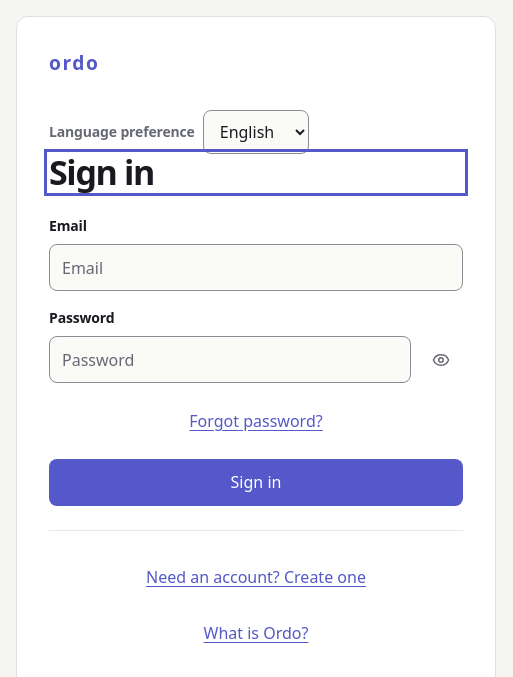
Test: existing authentication flows › retains the public login 401 message without establishing a session
Type "person@example.invalid" into the field labelled "Email" at (256, 268), box [49,244,463,291]
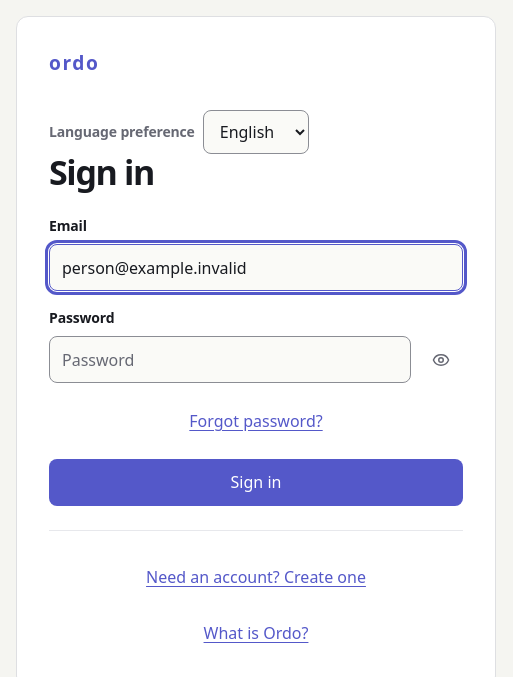
Type "Synthetic1!" into the password field labelled "Password" at (230, 360), box [49,336,411,383]
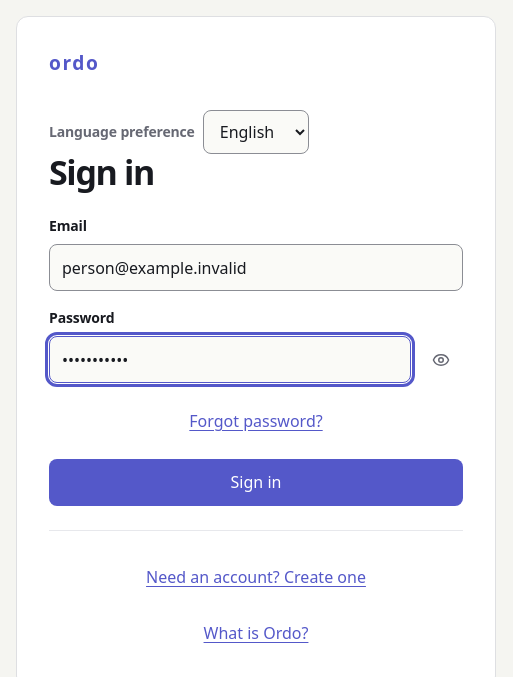
Click the button "Sign in" at (256, 482), box [49,459,463,506]
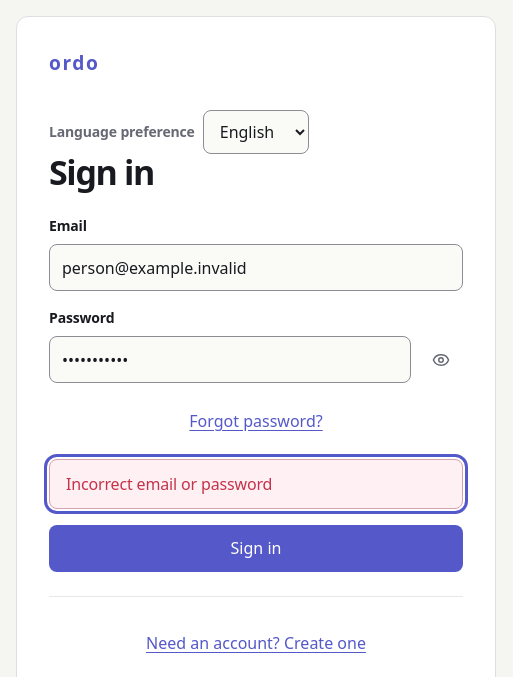
Check: the message reads "Incorrect email or password", box [66,473,272,495]
